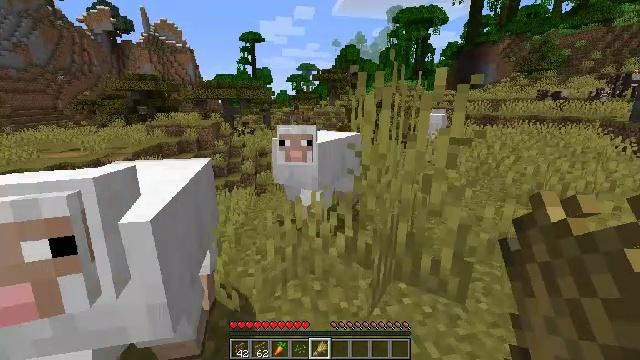cow: (607, 74, 640, 97), (536, 90, 567, 111), (589, 88, 612, 102)
sheep: (0, 157, 218, 360), (274, 126, 365, 214), (429, 108, 447, 134)
